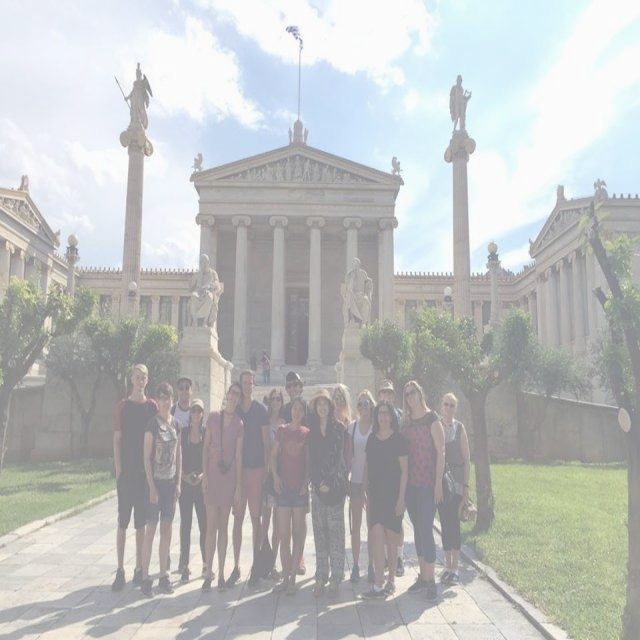pessoa: (23, 572, 459, 640), (393, 376, 448, 606), (108, 360, 160, 596), (353, 398, 412, 604), (138, 377, 188, 597), (300, 385, 349, 600), (198, 380, 244, 593), (225, 369, 270, 585), (270, 394, 316, 594), (432, 390, 478, 586), (173, 396, 213, 586), (281, 370, 313, 577), (346, 388, 379, 586), (260, 386, 288, 584), (111, 55, 149, 134), (184, 250, 220, 328), (341, 258, 374, 329), (448, 72, 472, 135), (375, 378, 402, 424), (170, 377, 193, 426), (329, 382, 352, 430), (257, 346, 273, 386), (249, 350, 258, 372), (262, 394, 268, 406)
